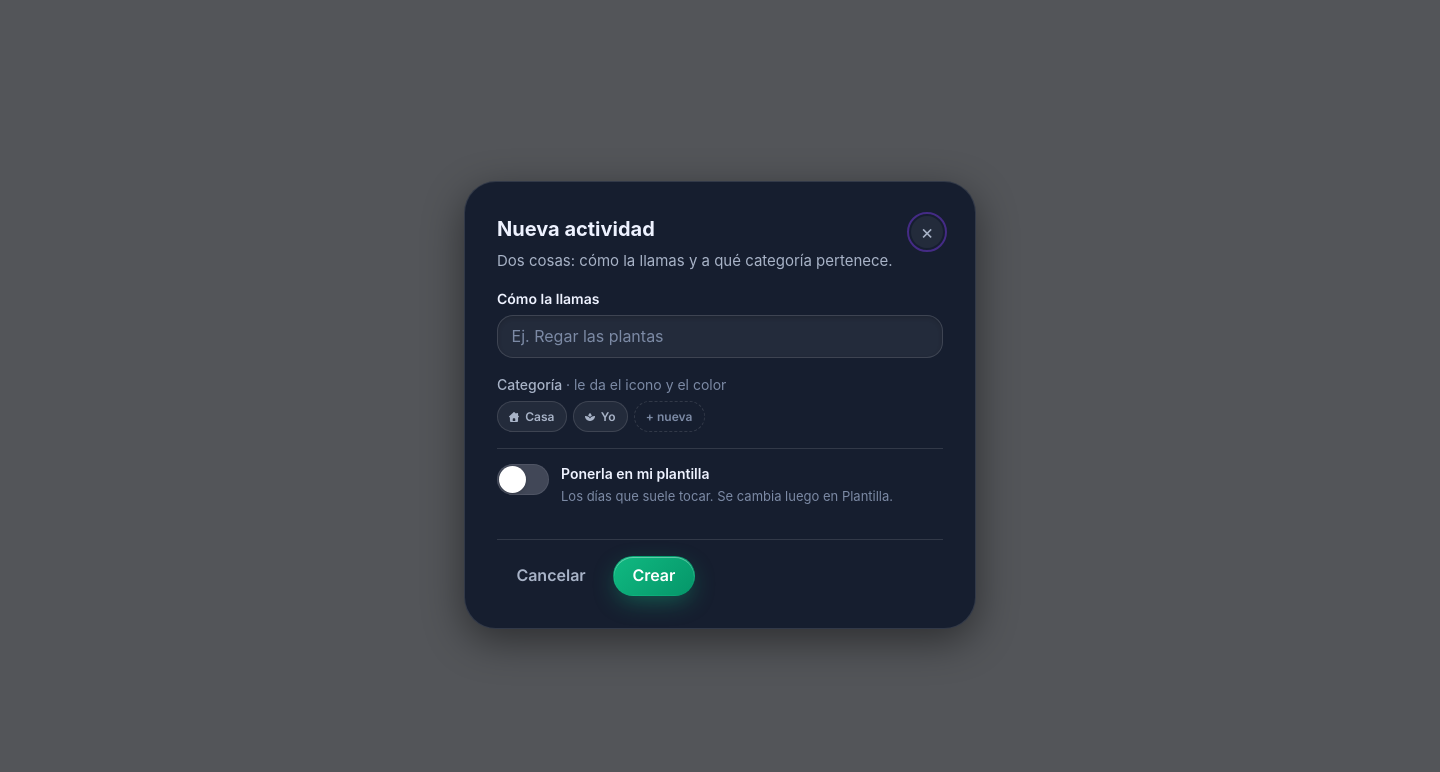
it: VidaActivitySheet › con el interruptor encendido aparecen «a qué hora» y las píldoras (criterio 3)
Expected: the field labelled "A qué hora" is not shown
Click the switch labelled "Ponerla en mi plantilla". click: (635, 473)
box: [561,465,710,482]
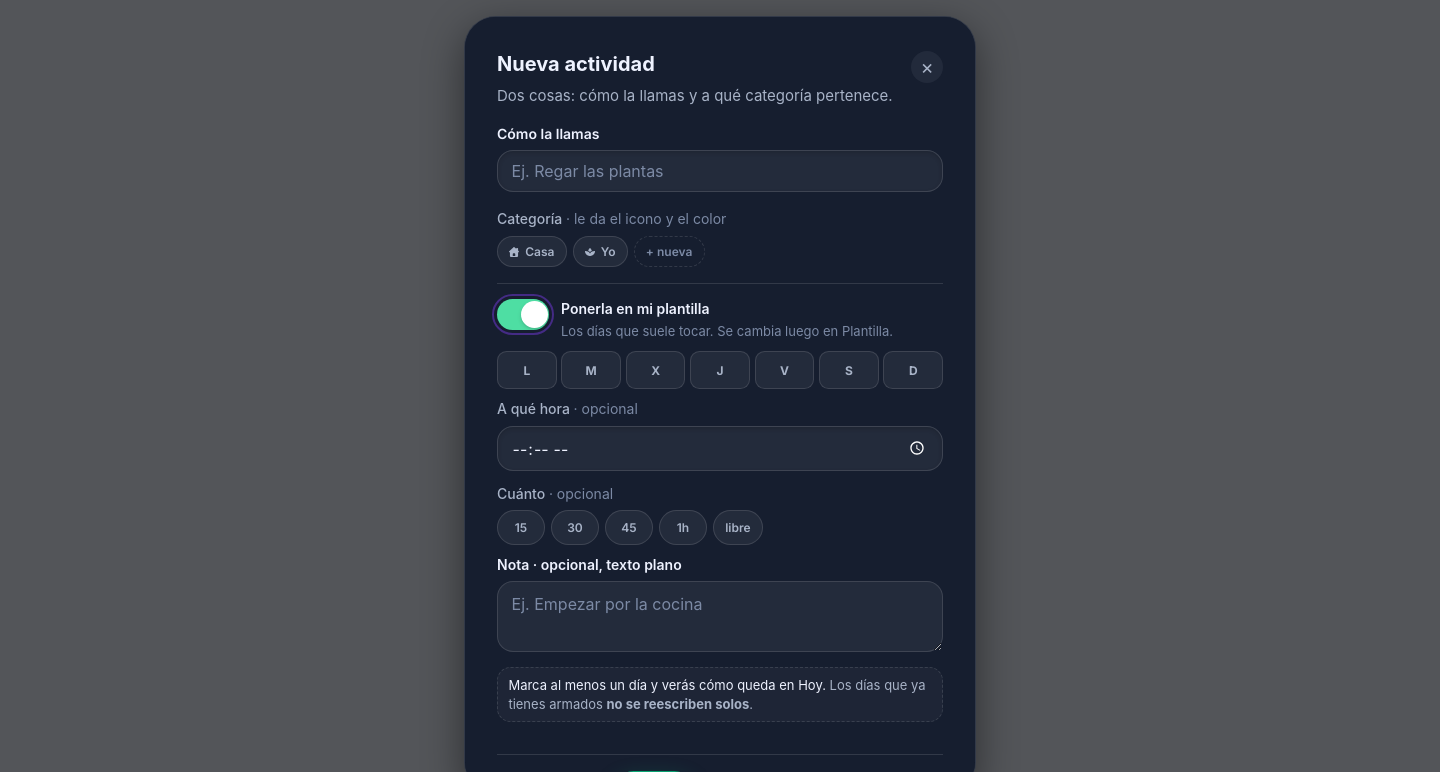
Now the button "15" is shown, box [497,510,545,545]
Now the button "30" is shown, box [551,510,599,545]
Now the button "45" is shown, box [605,510,653,545]
